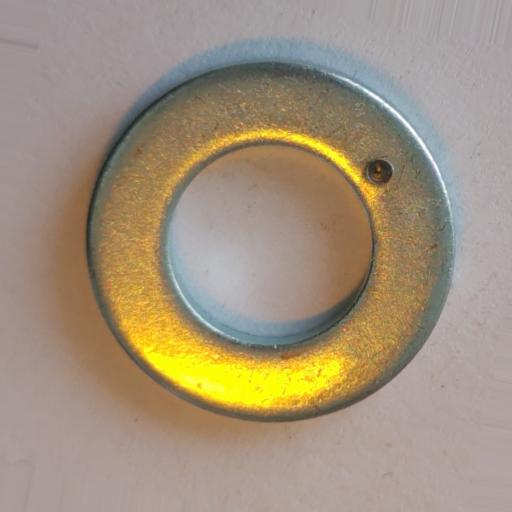circular_cavity: (364, 158, 395, 186)
